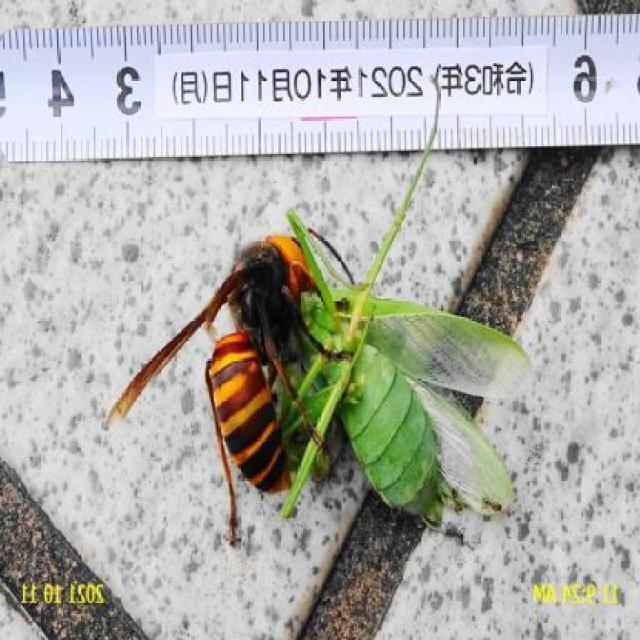Wasp: (90, 207, 327, 554)
